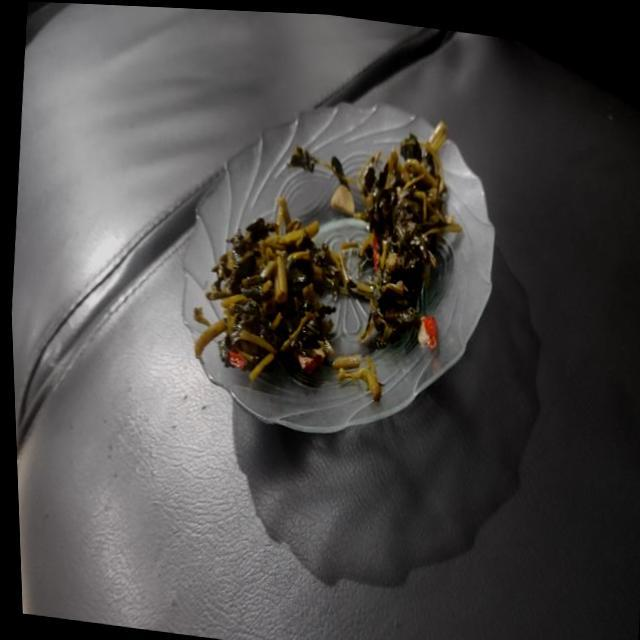tumis_kangkung: (194, 197, 352, 380), (356, 122, 462, 346)
